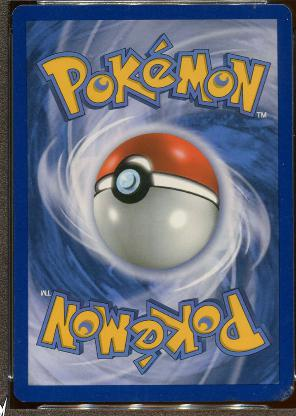Card: (10, 4, 294, 406)
Corner Wear: (274, 382, 293, 402)
